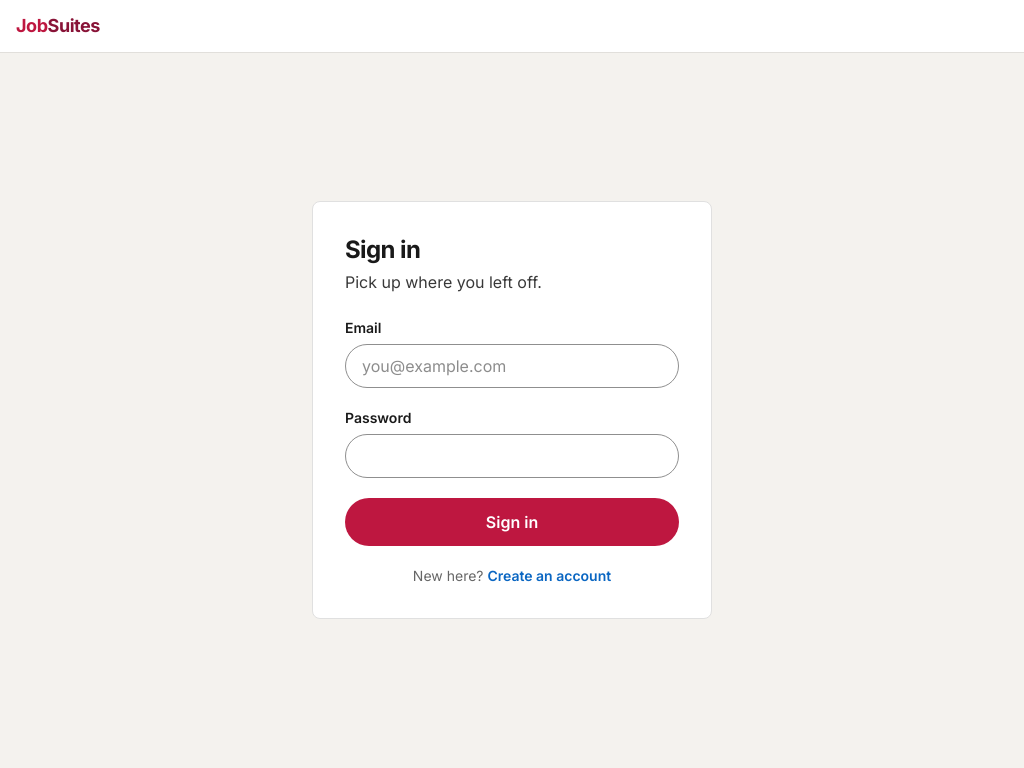
Test case: LoginPage › does not leak whether an email is registered
In the field labelled "Email": x=512, y=366 [345, 344, 679, 388], type "nobody@example.com"
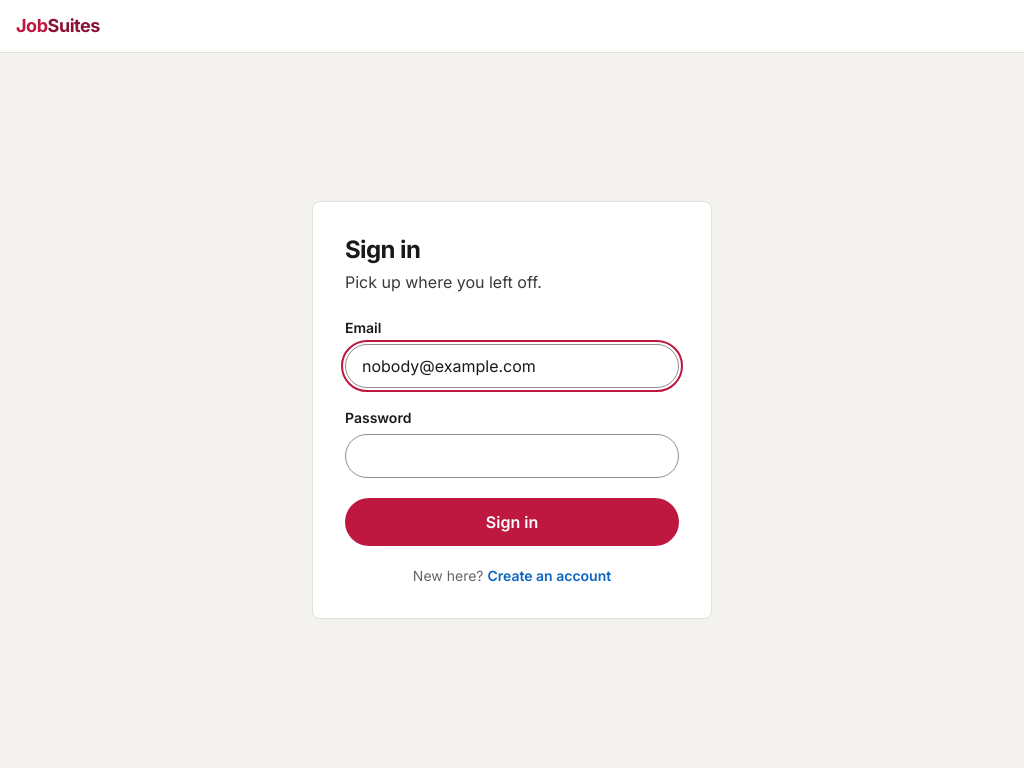
In the password field labelled "Password": x=512, y=456 [345, 434, 679, 478], type "wrongwrongwrong"
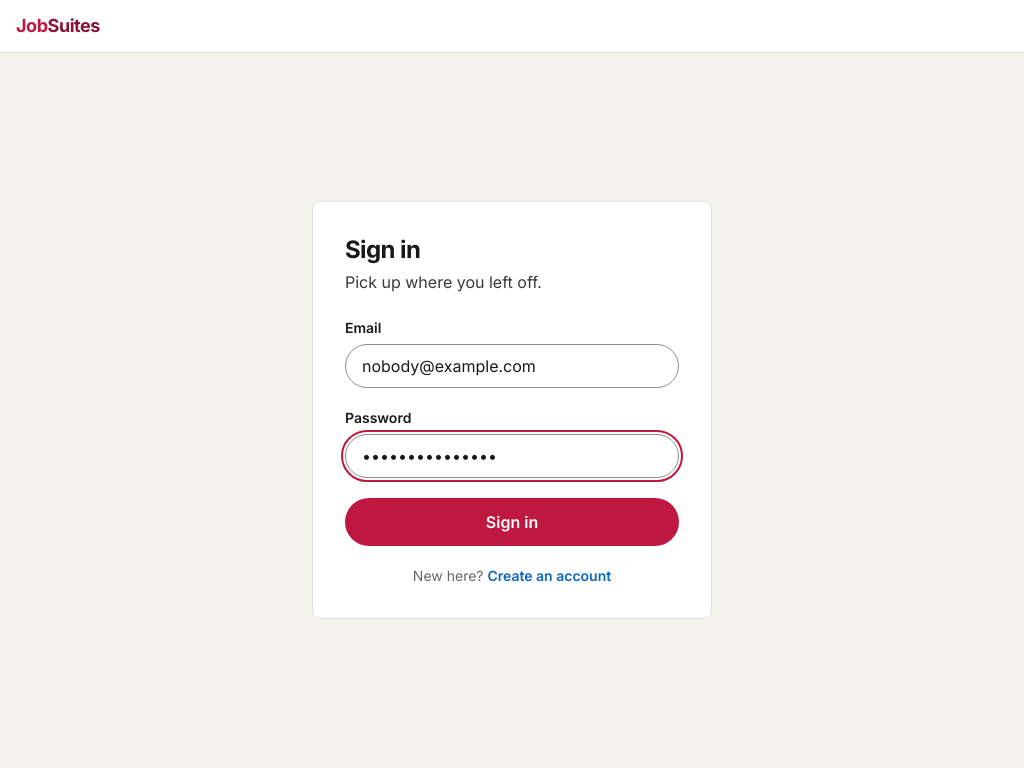
Click the button "Sign in": x=512, y=522 [345, 498, 679, 546]
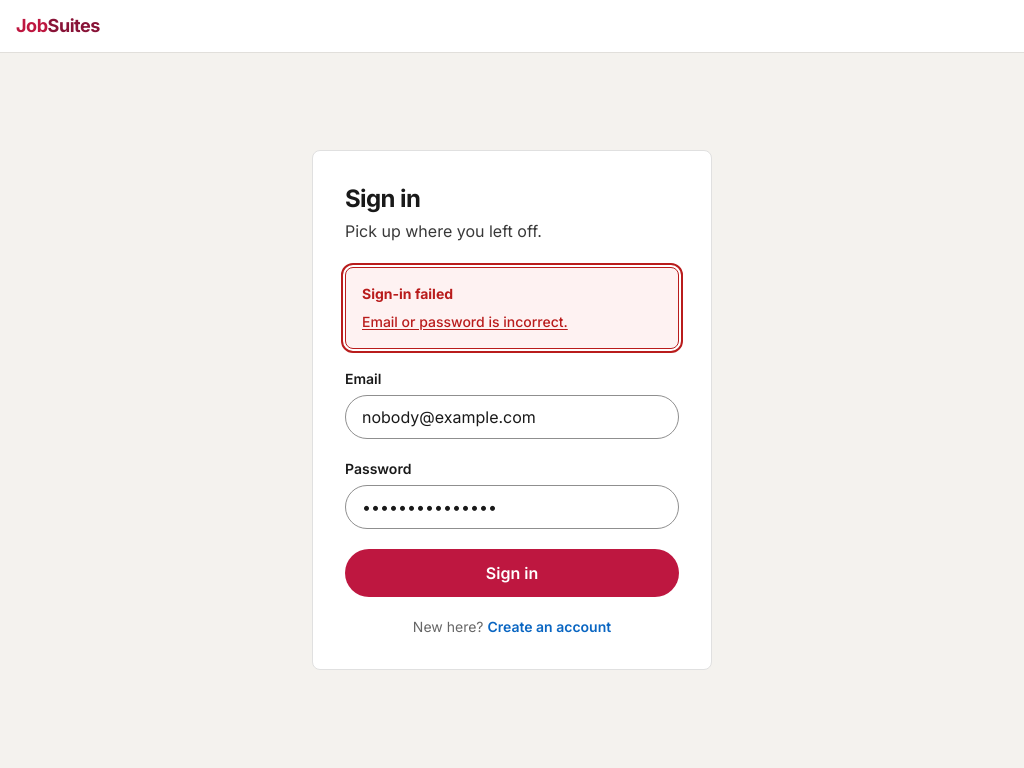
Check: the link "Email or password is incorrect." is shown, box [362, 313, 568, 330]
